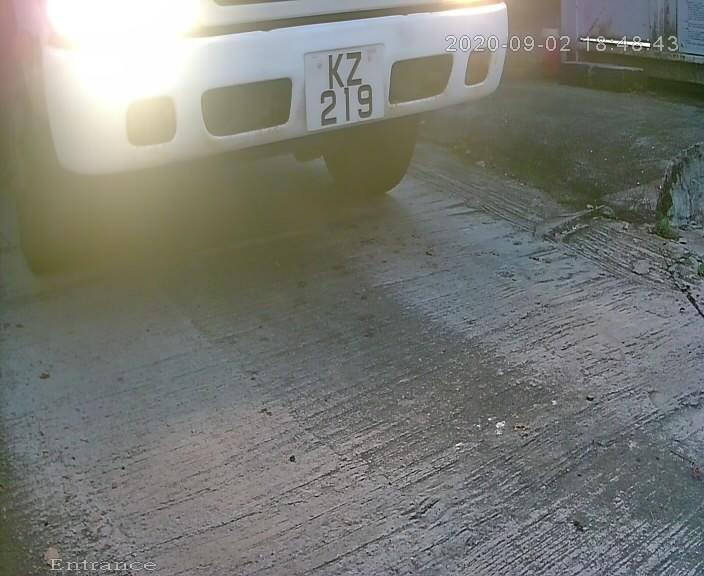License Plate: (283, 26, 400, 147)
